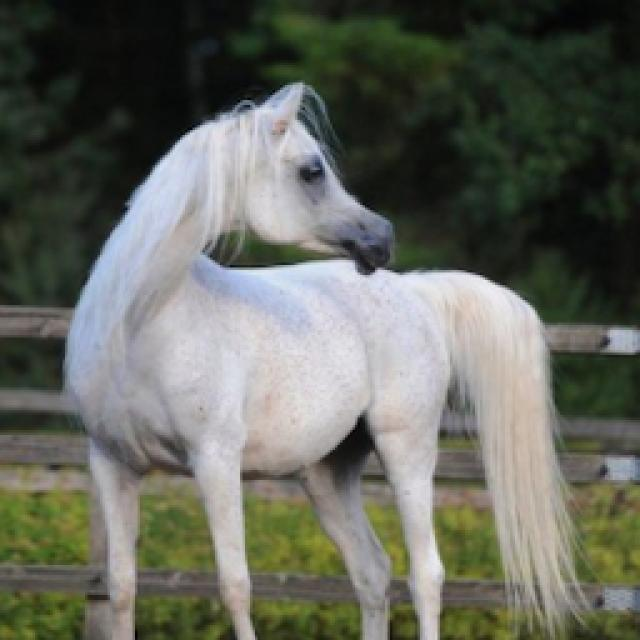Horse: (55, 75, 608, 638)
